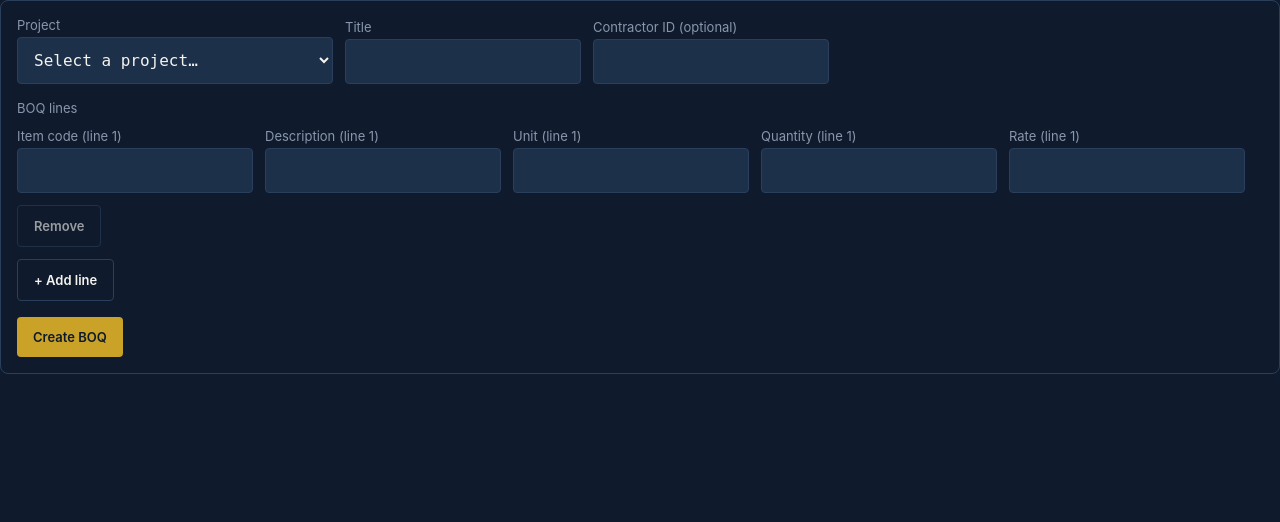
CreateBoqForm › adds and removes lines, disabling Remove when only one line remains
The image size is (1280, 522).
Expected: the button "Remove" is disabled, x1=17 y1=205 x2=102 y2=247
Click the button "+ Add line" at point(66, 280), box x1=17 y1=259 x2=114 y2=301
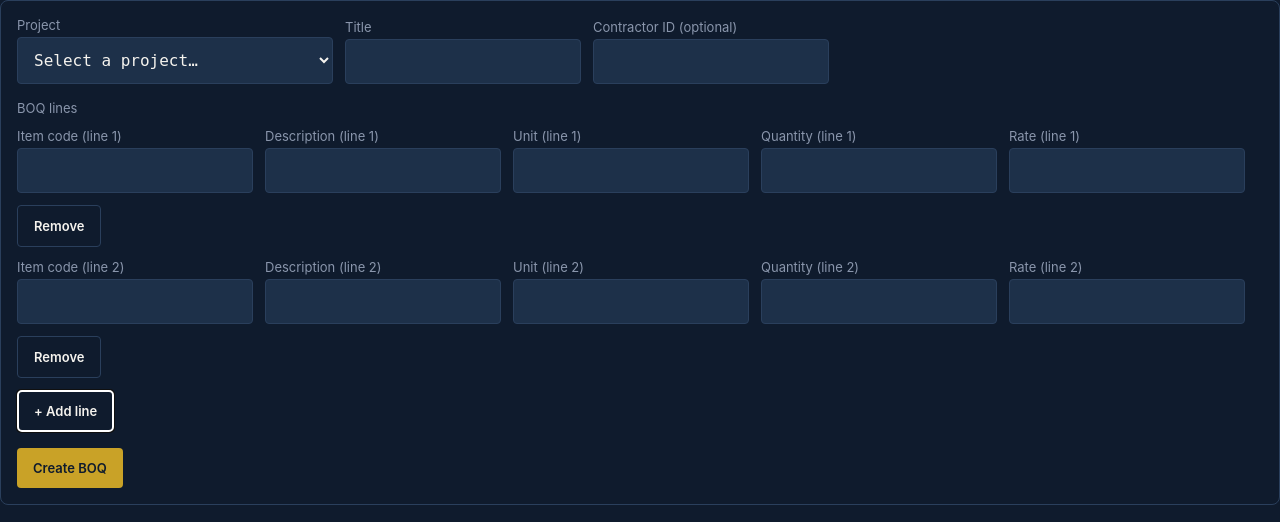
Expected: the field labelled "Item code (line 2)" is shown, x1=17 y1=279 x2=253 y2=324
Expected: the button "Remove" below "Item code (line 1)" is enabled, x1=17 y1=205 x2=102 y2=247
Click the button "Remove" below "Item code (line 2)" at point(59, 357), box x1=17 y1=336 x2=102 y2=378
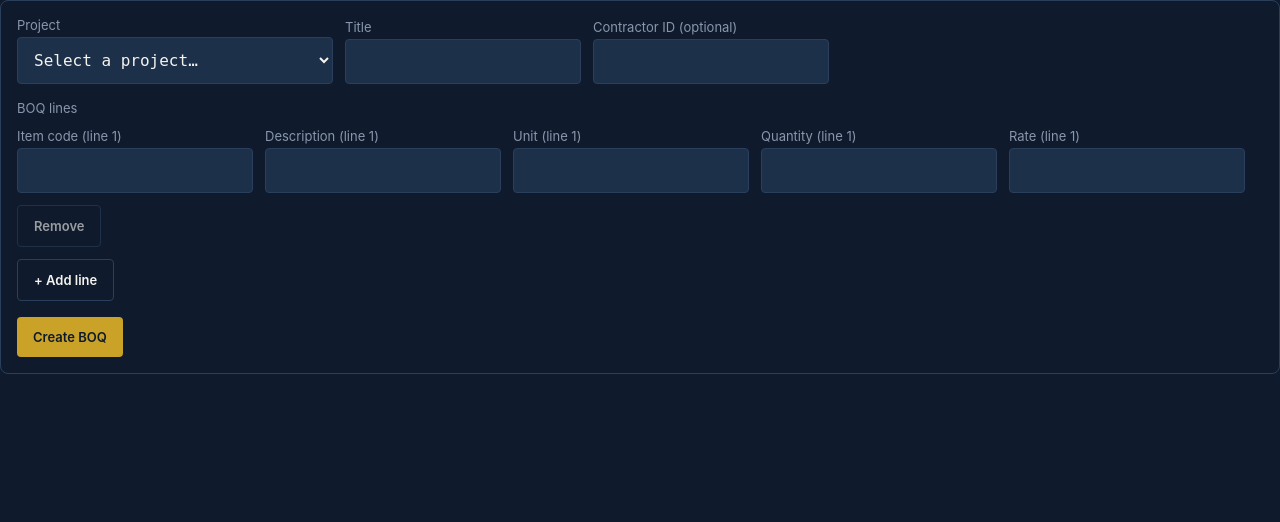
Expected: the label labelled "Item code (line 2)" is gone
Expected: the button "Remove" is disabled, x1=17 y1=205 x2=102 y2=247
